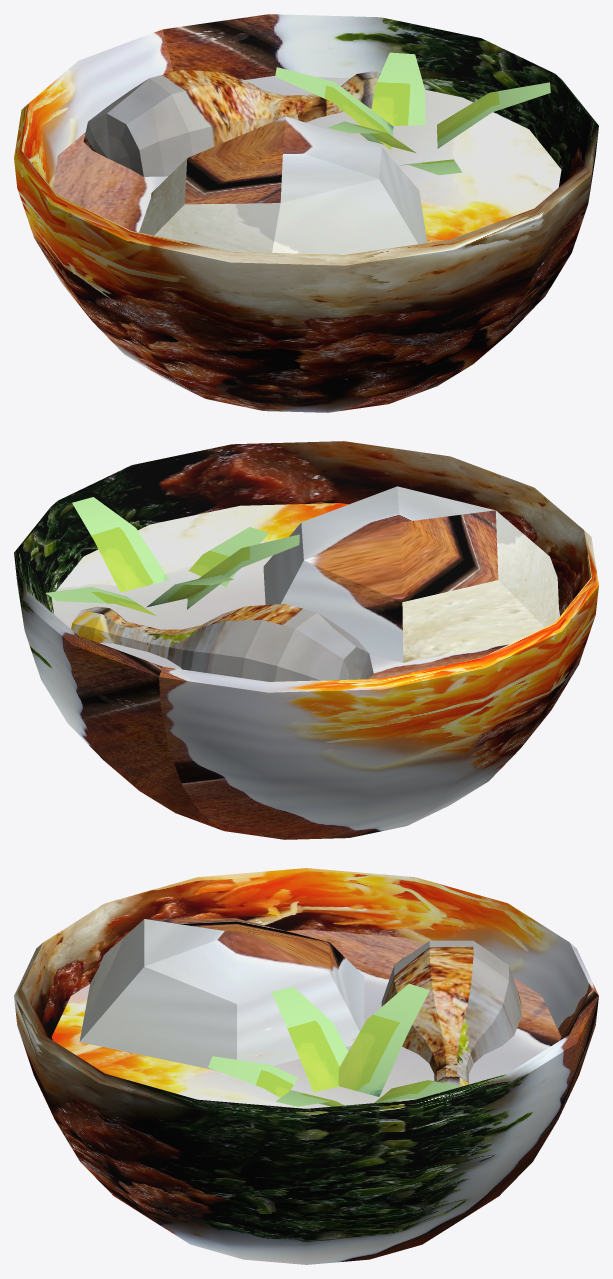
Rendered from ugali_soup.fbx.
The picture shows the model from 3 angles, top to bottom: view 1: azimuth 30°, elevation 25°; view 2: azimuth 150°, elevation 25°; view 3: azimuth 270°, elevation 25°; orthographic projection.
Parts seen in each view (by area): view 1: bowl, ugali, chicken, mrenda; view 2: bowl, ugali, chicken, mrenda; view 3: bowl, ugali, chicken, mrenda.
Part boxes in pixels (left/top/right/bottom): bowl: left=14, top=14, right=598, bottom=412; ugali: left=139, top=116, right=427, bottom=254; chicken: left=83, top=69, right=377, bottom=176; mrenda: left=275, top=52, right=550, bottom=175; bowl: left=14, top=441, right=598, bottom=839; ugali: left=263, top=486, right=558, bottom=662; chicken: left=71, top=604, right=373, bottom=681; mrenda: left=46, top=497, right=299, bottom=615; bowl: left=14, top=868, right=598, bottom=1264; ugali: left=79, top=918, right=364, bottom=1070; chicken: left=381, top=940, right=521, bottom=1086; mrenda: left=208, top=983, right=461, bottom=1106.
Size of the model in its own units: 1.98 by 0.9495 by 1.98.
